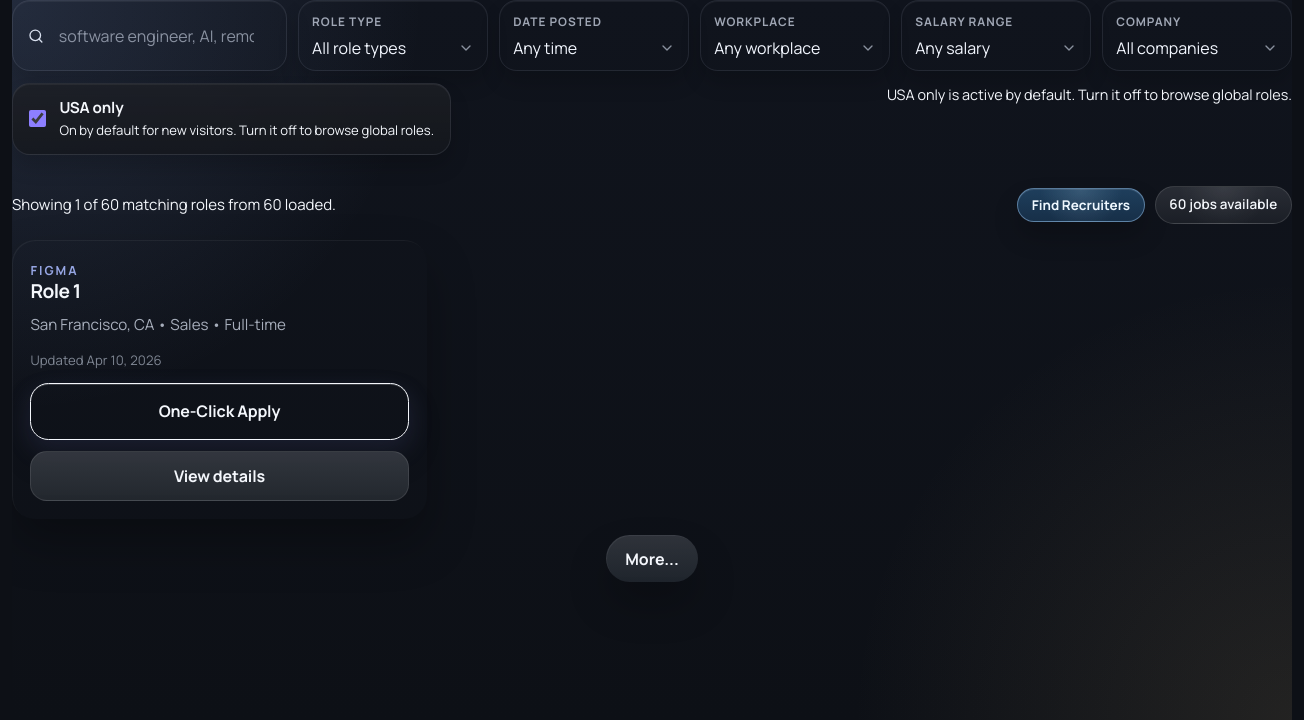
Test: JobsResults › keeps hydrating salary details until a later matching job is found
Select "$150k - $200k" in the dropdown labelled "Salary range" at (996, 48), box x1=915 y1=36 x2=1077 y2=58
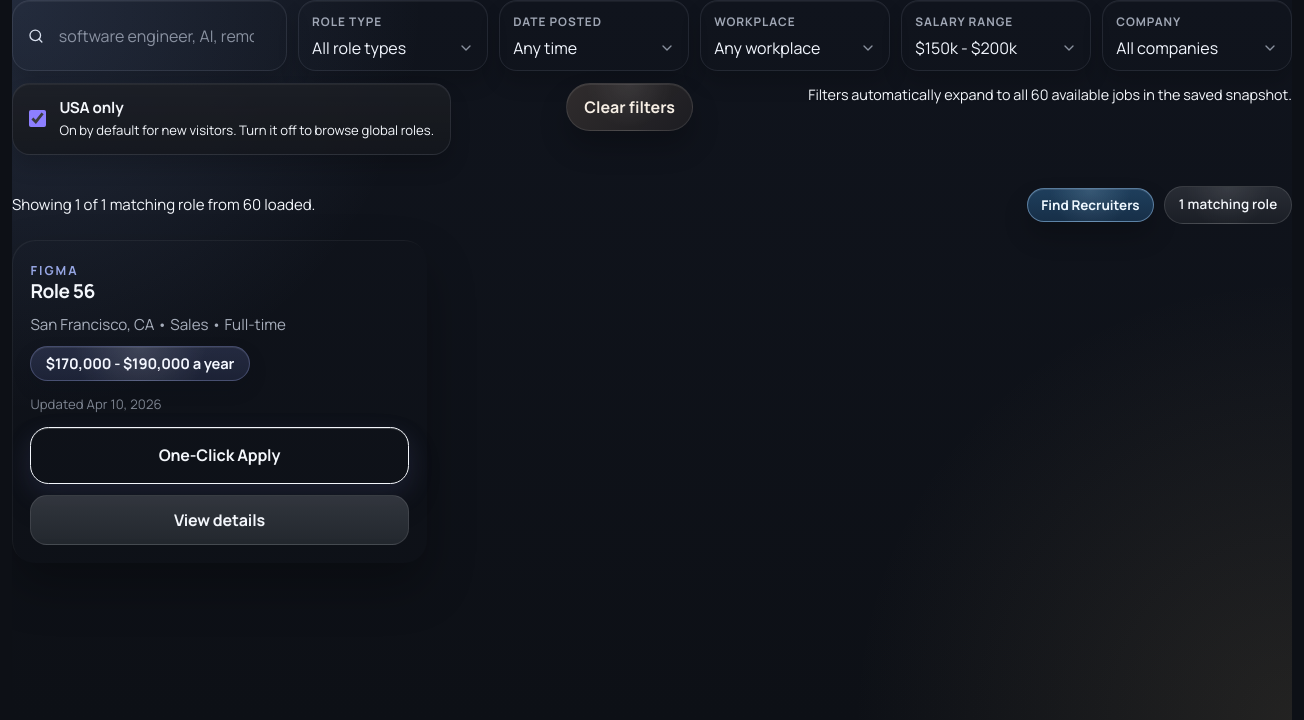
Expected: the heading "Role 56" is shown, x1=30 y1=278 x2=95 y2=304
Expected: the text "Showing 1 of 1 matching role from 60 loaded." is shown, x1=12 y1=193 x2=315 y2=217
